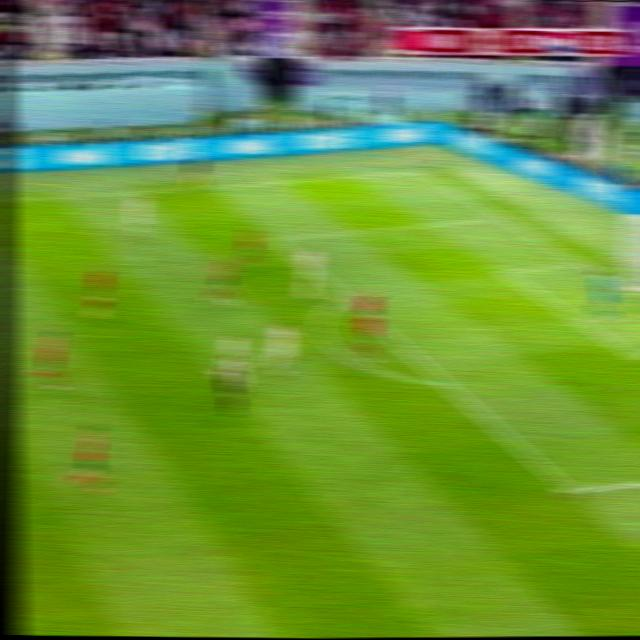bigarea_bottom_inner: (555, 476, 585, 506)
bigarea_top_inner: (262, 227, 286, 249)
bigarea_top_outter: (491, 209, 513, 225)
bottom_arc_area_intersection: (431, 373, 460, 396)
corner: (411, 167, 432, 176)
smallarea_top_inner: (490, 262, 512, 281)
smallarea_top_outter: (570, 257, 592, 271)
top_arc_area_intersection: (333, 287, 354, 307)
